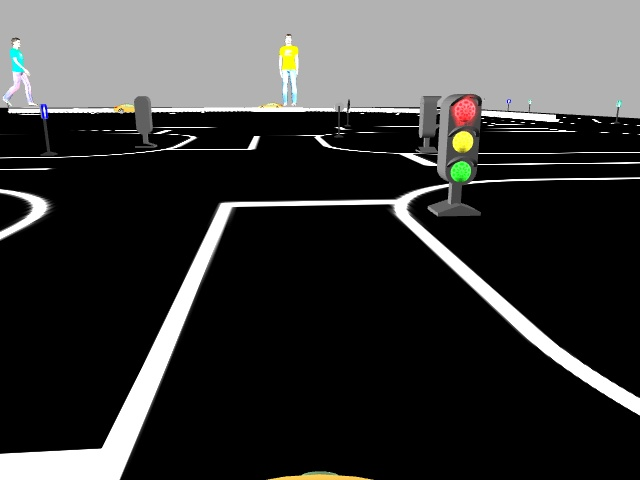TrafficLight: (436, 93, 482, 184)
